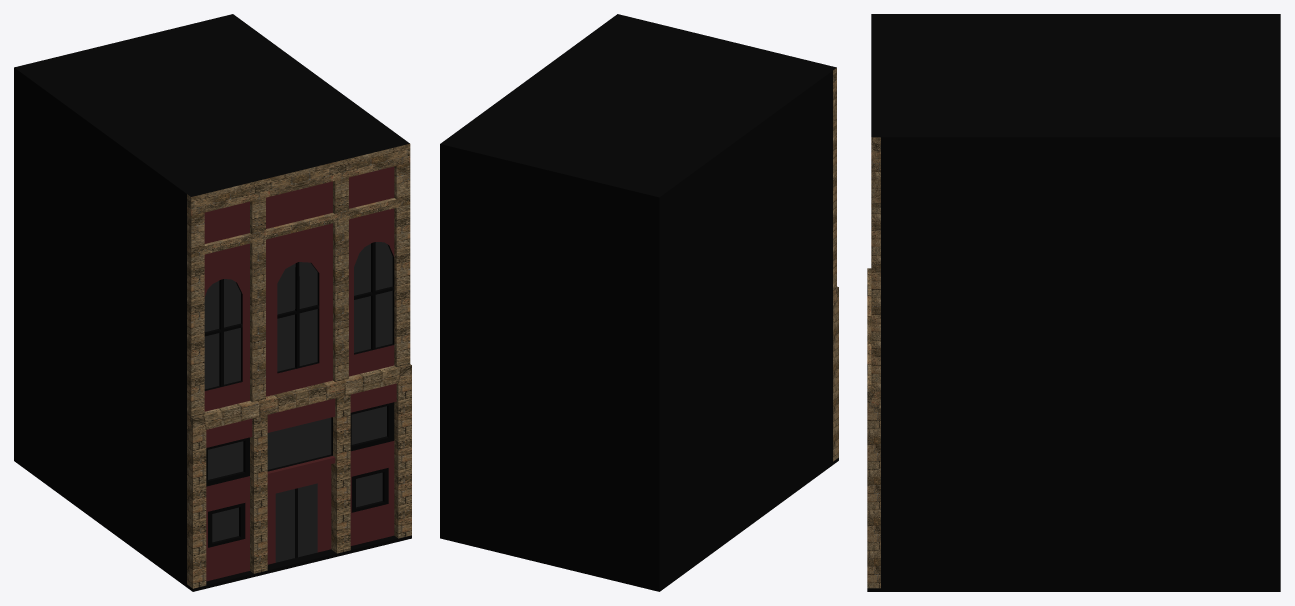
File: store.fbx
The picture shows the model from 3 angles, left to right: view 1: azimuth 30°, elevation 25°; view 2: azimuth 150°, elevation 25°; view 3: azimuth 270°, elevation 25°; orthographic projection. The views are drawn at different scales.
Visible parts, largest first — view 1: base; view 2: base; view 3: base.
Part boxes in pixels (bbox=[...]): base: bbox=[14, 14, 411, 591]; base: bbox=[440, 14, 838, 591]; base: bbox=[867, 14, 1280, 591].
Bounding box in the file's own units: 561 × 964 × 794.
